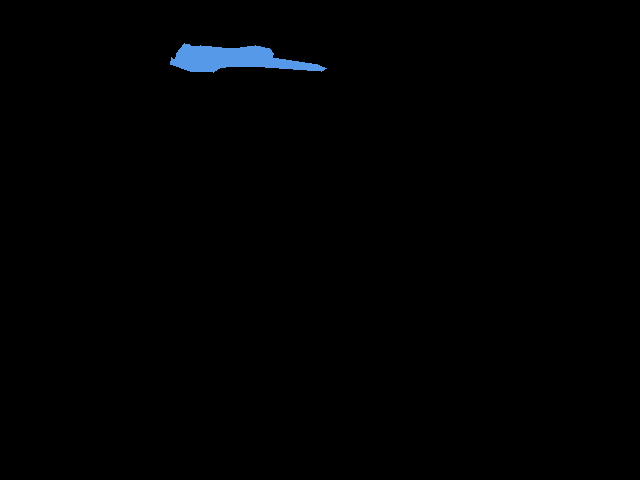Airplane: (170, 43, 326, 72)
